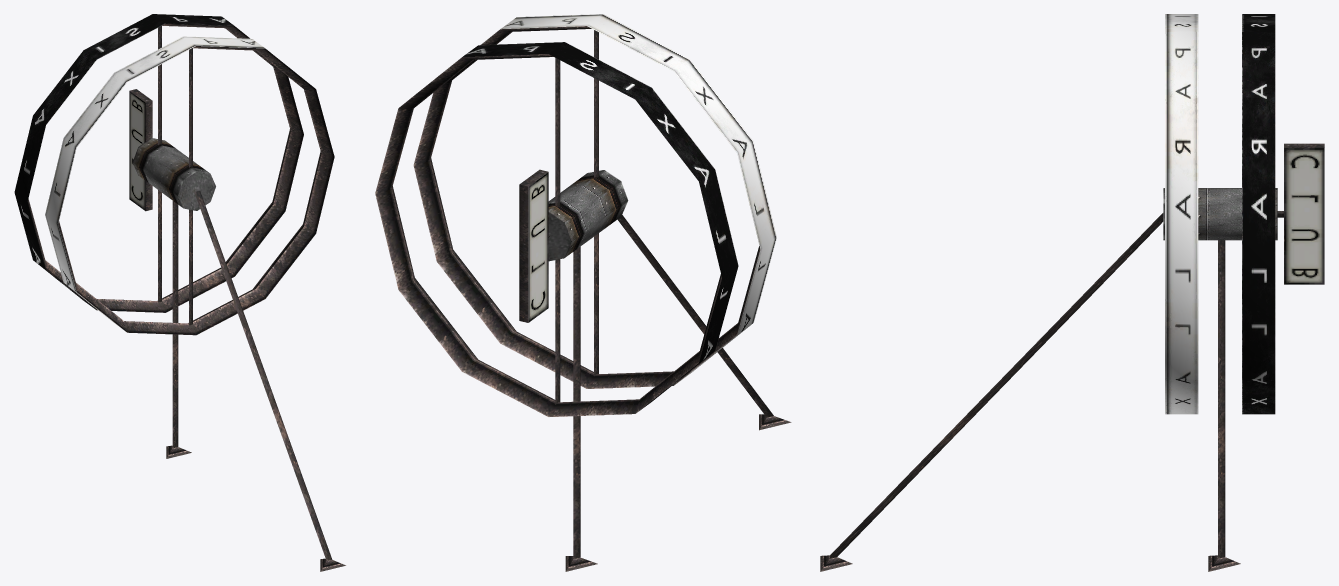
The model's file is parallaxis.fbx.
3 renders of one model, left to right at view 1: azimuth 30°, elevation 25°; view 2: azimuth 150°, elevation 25°; view 3: azimuth 270°, elevation 25°, orthographic. The views are drawn at different scales.
Parts seen in each view (by area): view 1: mesh_0; view 2: mesh_0; view 3: mesh_0.
Boxes of the visible parts, box(x1,y1,x2,y2) form: mesh_0: box(14, 14, 345, 571); mesh_0: box(375, 14, 791, 571); mesh_0: box(820, 14, 1324, 571).
Bounding box in the file's own units: 414 × 605 × 520.
1 material, 1 textured.
